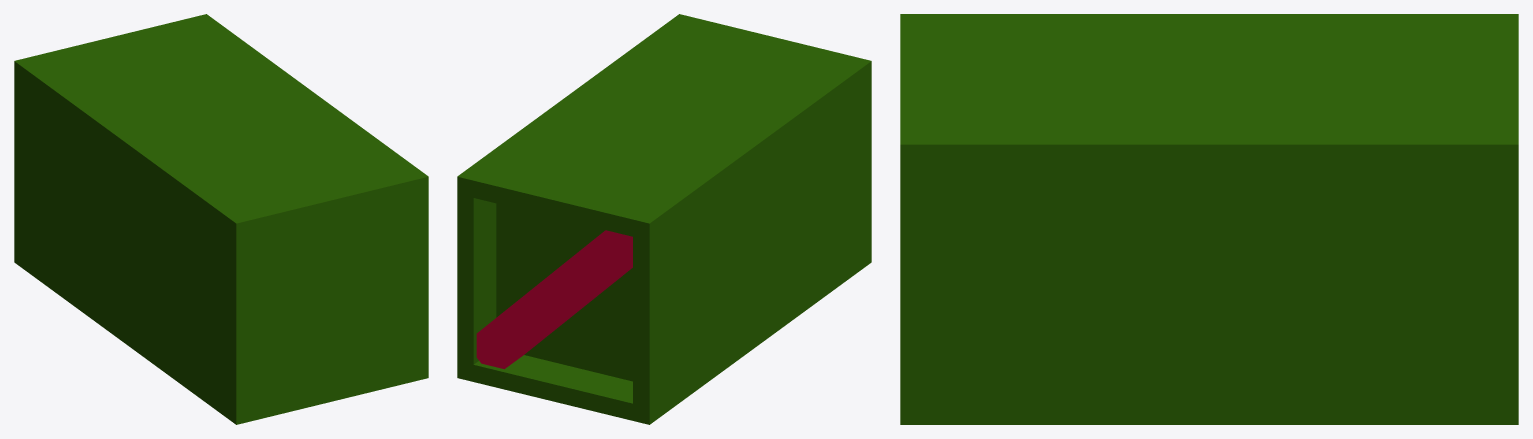
File: lvl1_groundWallCrate.fbx
The picture shows the model from 3 angles, left to right: view 1: azimuth 30°, elevation 25°; view 2: azimuth 150°, elevation 25°; view 3: azimuth 270°, elevation 25°; orthographic projection. The views are drawn at different scales.
Visible parts, largest first — view 1: pCube6; view 2: pCube6; view 3: pCube6.
Part boxes in pixels (bbox=[...]): pCube6: bbox=[14, 14, 428, 424]; pCube6: bbox=[457, 14, 871, 424]; pCube6: bbox=[900, 14, 1518, 424].
Bounding box in the file's own units: 100 × 100 × 200.
